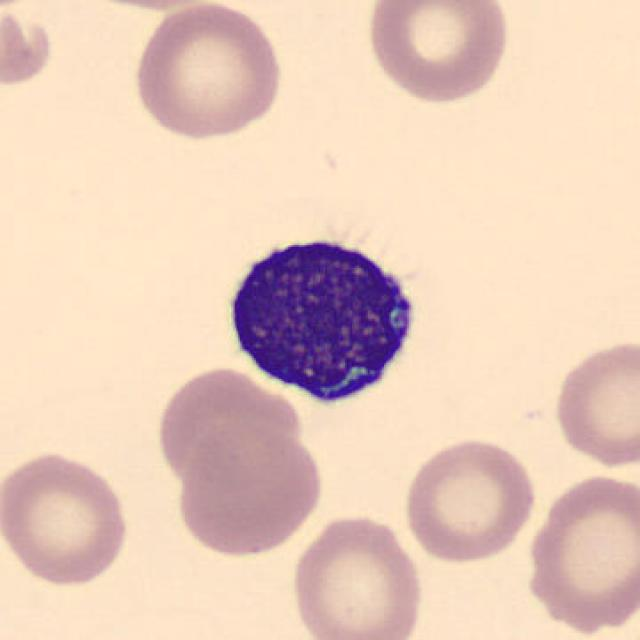Lymphocyte: (214, 219, 431, 414)
RBC: (128, 0, 286, 143), (173, 421, 327, 559), (523, 469, 638, 635), (0, 446, 133, 589), (151, 363, 302, 487), (398, 434, 539, 564), (288, 509, 426, 640), (362, 0, 514, 106), (550, 335, 638, 471), (62, 0, 228, 14), (0, 0, 48, 16)
